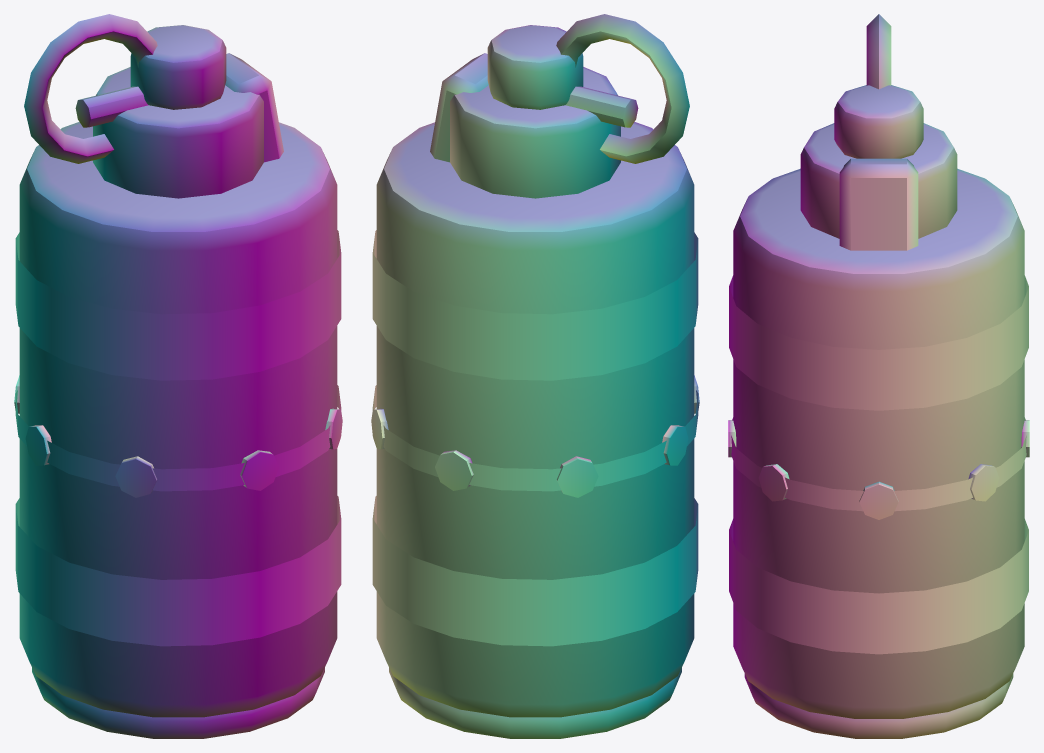
The model's file is gad_flash.glb.
3 views of the same model, side by side, from view 1: azimuth 30°, elevation 25°; view 2: azimuth 150°, elevation 25°; view 3: azimuth 270°, elevation 25° (orthographic). The views are drawn at different scales.
Visible parts, largest first — view 1: flash; view 2: flash; view 3: flash.
Part boxes in pixels (x1,y1,x2,y2): flash: (14, 14, 342, 738); flash: (371, 14, 699, 738); flash: (728, 14, 1029, 738).
Bounding box in the file's own units: 0.0561 × 0.1239 × 0.0538.
